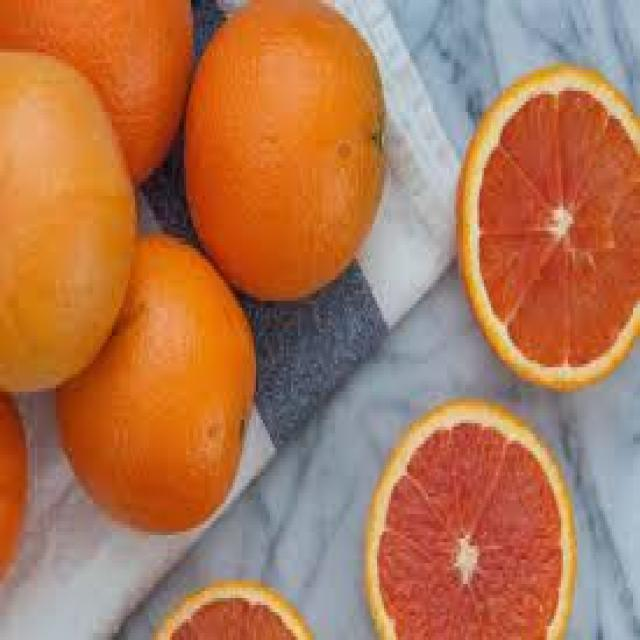orange: (180, 0, 396, 306)
